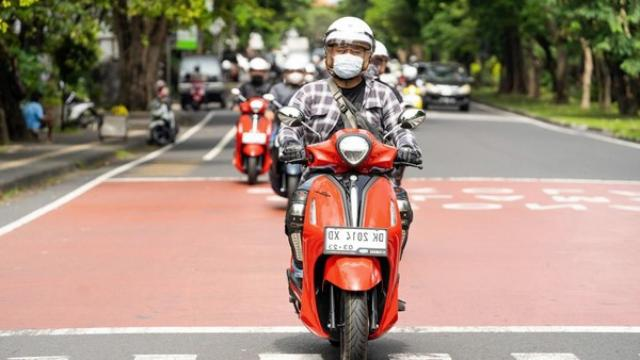helm: (320, 17, 374, 86), (281, 53, 311, 90), (246, 57, 273, 86)
motor: (269, 104, 429, 360)
